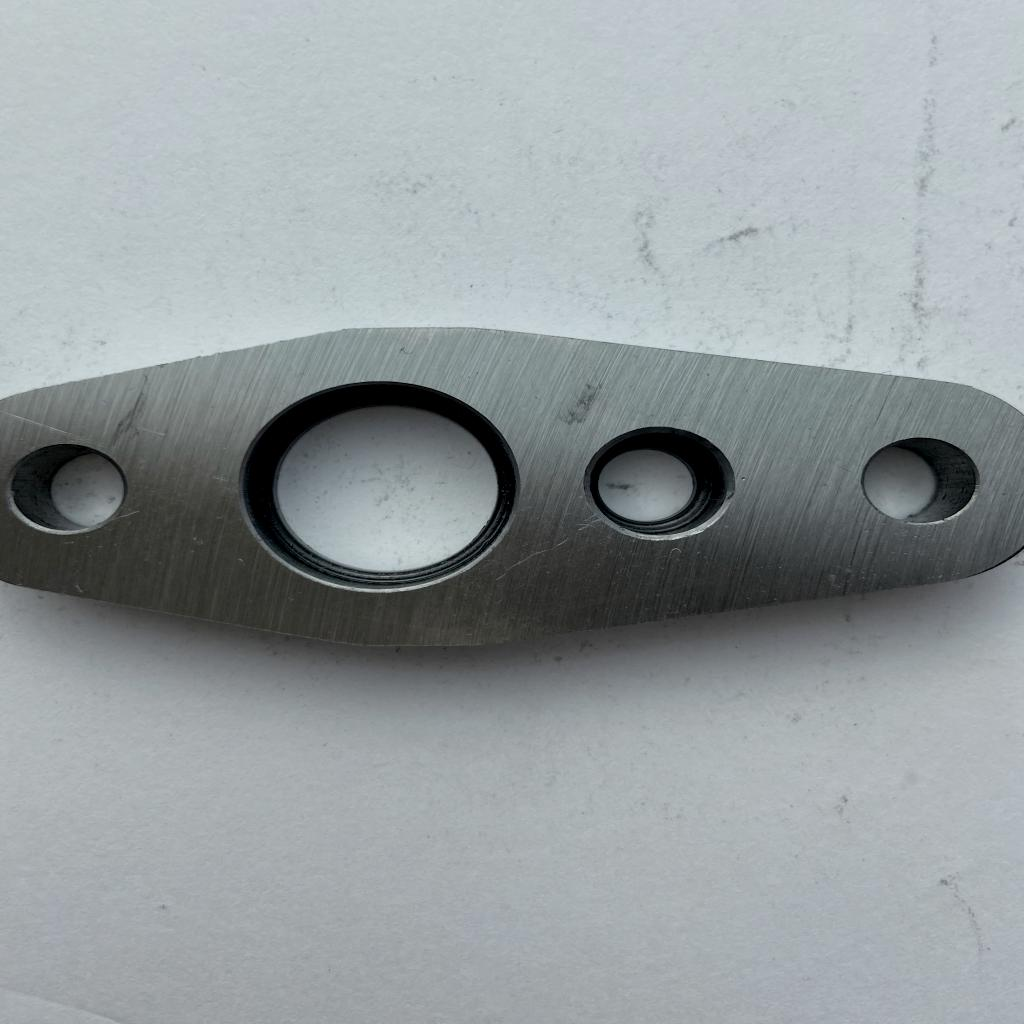chap: (72, 582, 90, 596), (738, 472, 748, 485)
lines: (0, 407, 92, 441), (114, 372, 156, 446), (563, 380, 598, 430)
